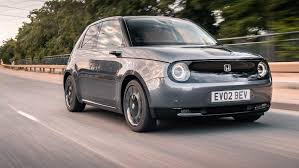Honda: (63, 19, 273, 131)
